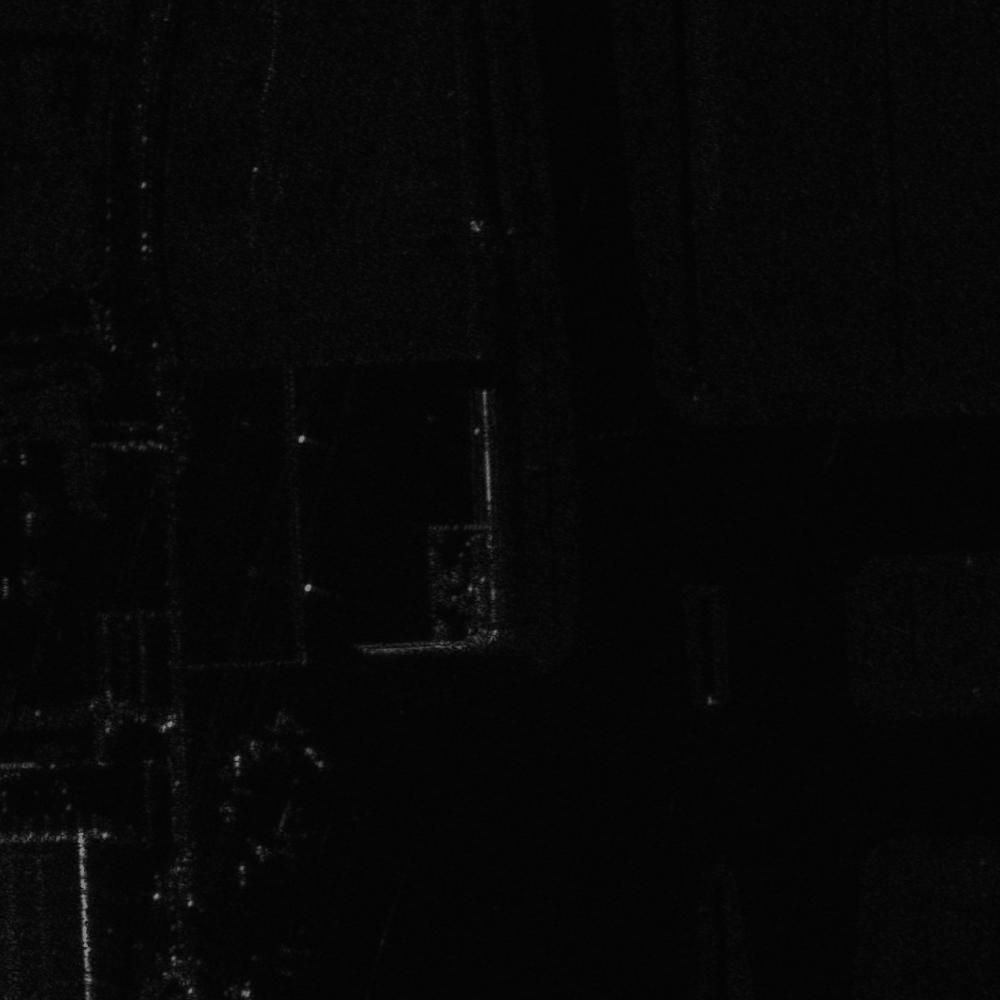A320/321: (251, 794, 319, 866)
